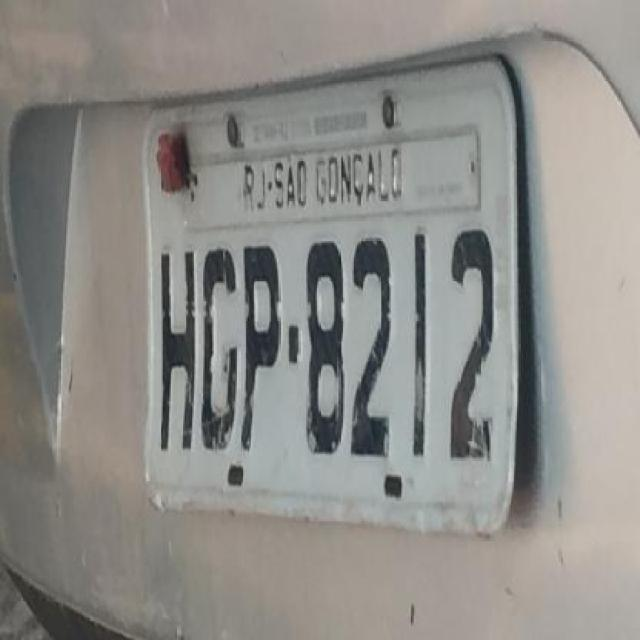old_plate: (132, 46, 538, 549)
